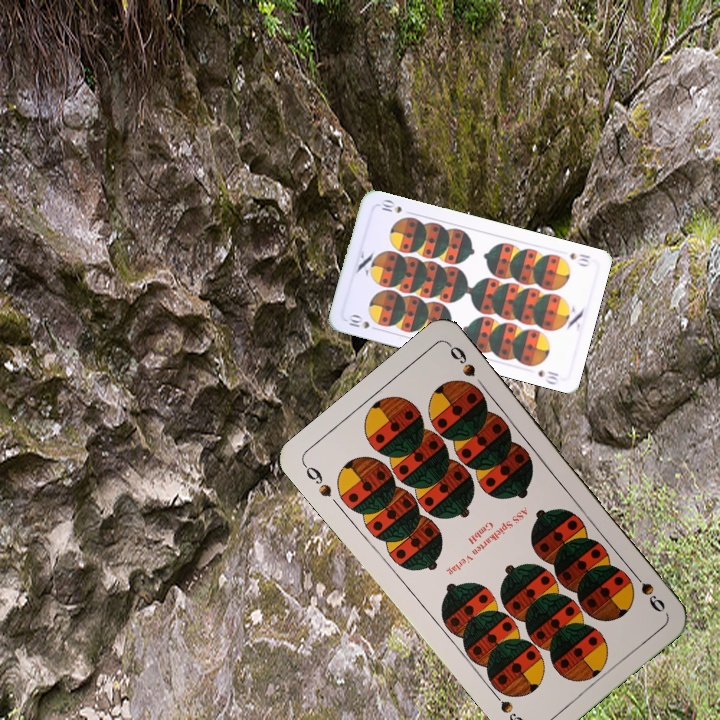S10: (343, 311, 382, 333), (566, 249, 593, 269)
S9: (626, 565, 668, 616), (299, 460, 335, 500)
